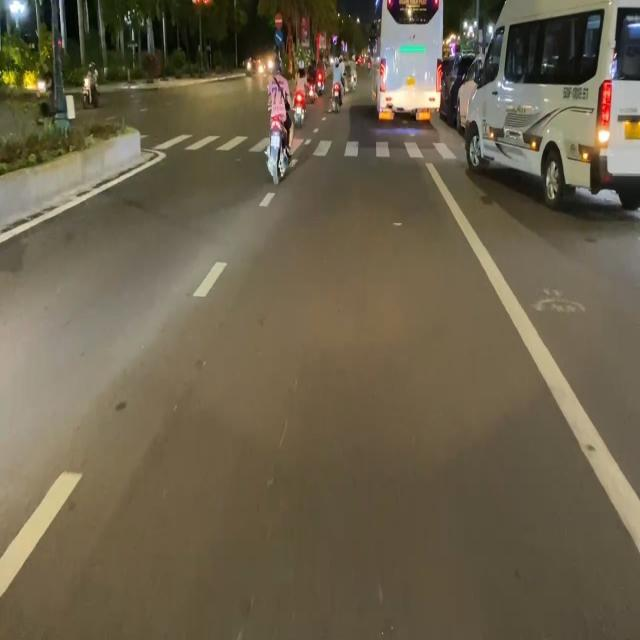walk-crossing: (168, 121, 464, 170)
